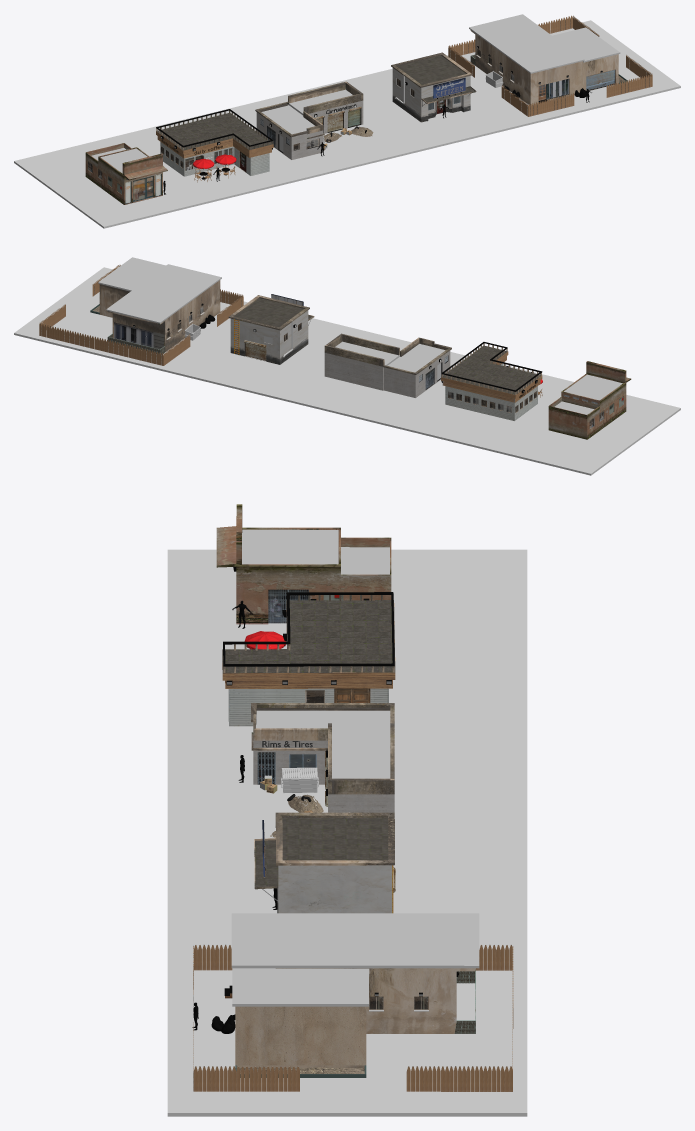
The model's file is uploads_files_3196257_B1.fbx.
3 views of the same model, one above another, from view 1: azimuth 30°, elevation 25°; view 2: azimuth 150°, elevation 25°; view 3: azimuth 270°, elevation 25° (orthographic). The views are drawn at different scales.
Visible parts, largest first — view 1: Plane.019, Plane.017, Cube, Cube.025, Cube.014, Cube.040, Plane.013, Plane.011, Cube.018, Plane.004, Plane.009, Plane.014; view 2: Plane.019, Plane.017, Cube, Cube.025, Cube.014, Cube.040, Plane.009, Plane.010, Cube.018, Plane.012; view 3: Plane.019, Plane.017, Cube.025, Cube.014, Cube, Cube.040, Plane.007, Plane.008, Cube.018, Plane.014.
Boxes of the visible parts, x1,y1,x2,y2 form: Plane.019: (14,20,680,228); Plane.017: (469,14,627,105); Cube: (255,81,363,159); Cube.025: (156,113,273,176); Cube.014: (391,52,476,122); Cube.040: (85,143,167,204); Plane.013: (528,93,574,116); Plane.011: (606,74,652,97); Cube.018: (156,109,273,147); Plane.004: (433,77,465,98); Plane.009: (538,15,572,33); Plane.014: (501,85,528,116); Plane.019: (14,267,680,475); Plane.017: (90,257,221,354); Cube: (324,333,451,397); Cube.025: (441,346,542,420); Cube.014: (228,295,314,364); Cube.040: (548,361,631,439); Plane.009: (39,323,101,350); Plane.010: (101,338,163,365); Cube.018: (441,342,542,391); Plane.012: (163,334,190,365); Plane.019: (167,549,527,1116); Plane.017: (231,913,479,1077); Cube.025: (222,600,395,726); Cube.014: (254,812,394,913); Cube: (251,703,394,812); Cube.040: (216,504,391,624); Plane.007: (193,1066,299,1091); Plane.008: (406,1066,512,1091); Cube.018: (223,592,394,666); Plane.014: (194,944,232,970).
Bounding box in the file's own units: 20535 × 1459 × 5544.
